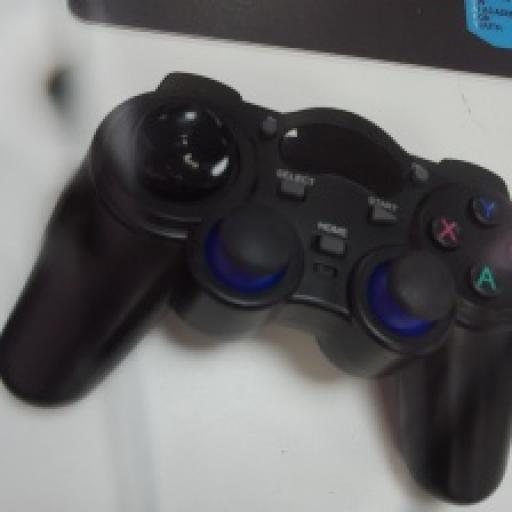game pad: (0, 73, 510, 503)
